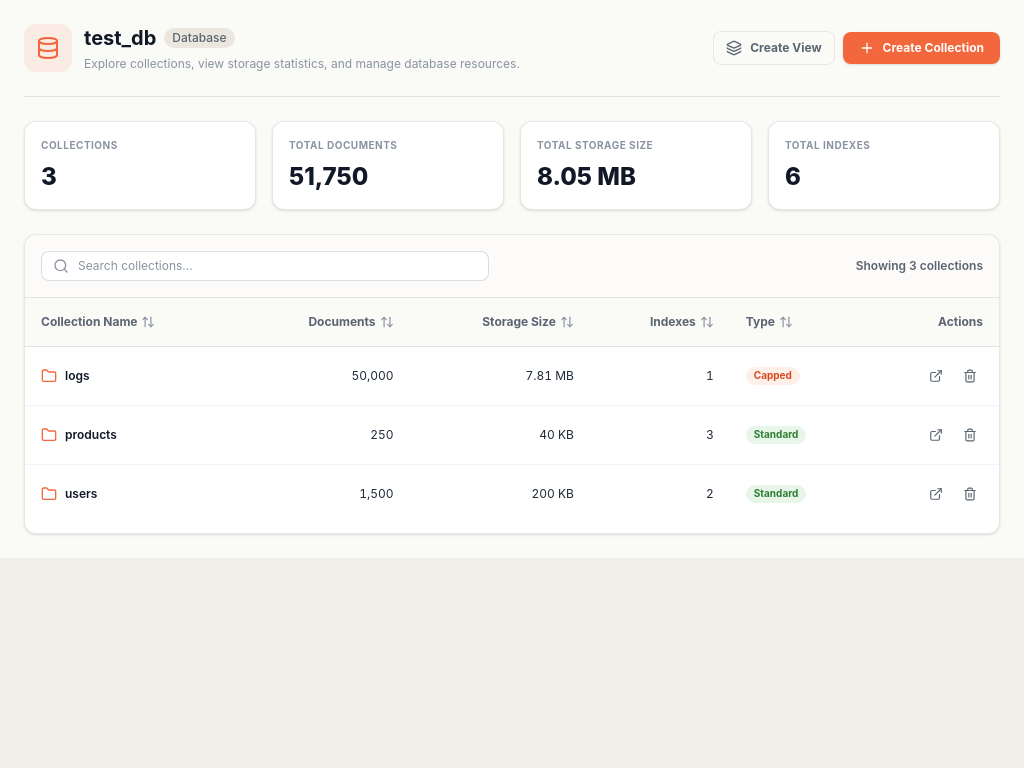
Test case: DatabaseCollectionsView › filters collections by search term
Note: Search for "prod"
Type "prod" into the field with placeholder "Search collections..." at (265, 266), box [41, 251, 489, 281]
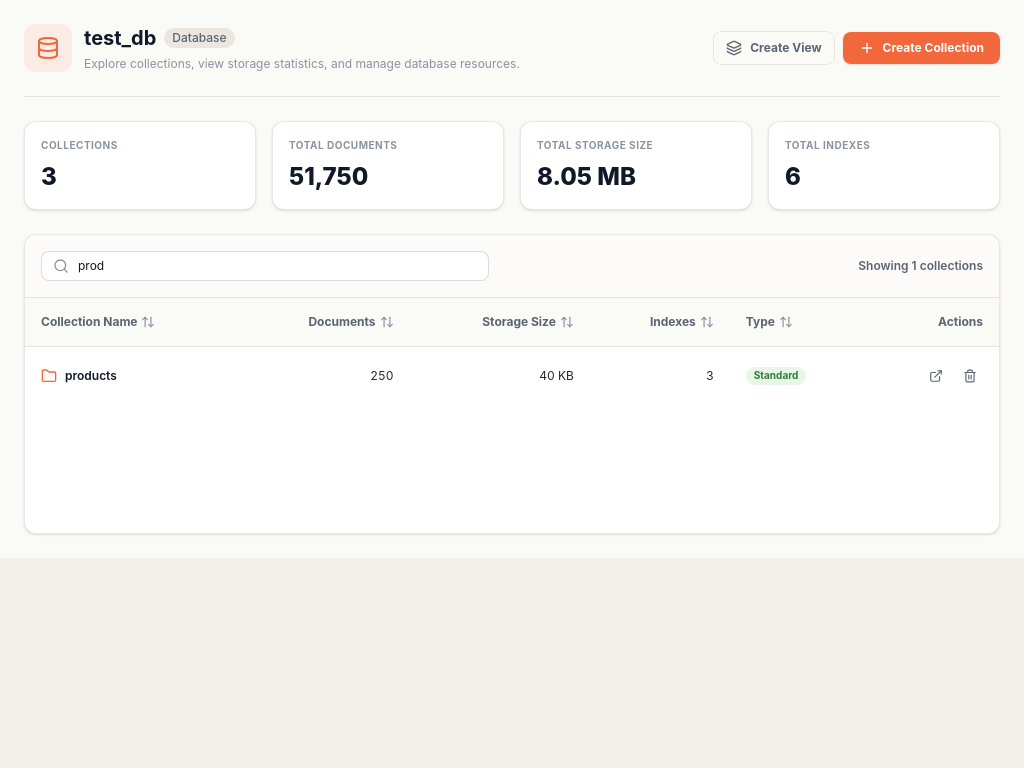
Check: the text "products" is shown, box [65, 368, 117, 384]
Check: the button "users" is gone
Check: the button "logs" is gone
